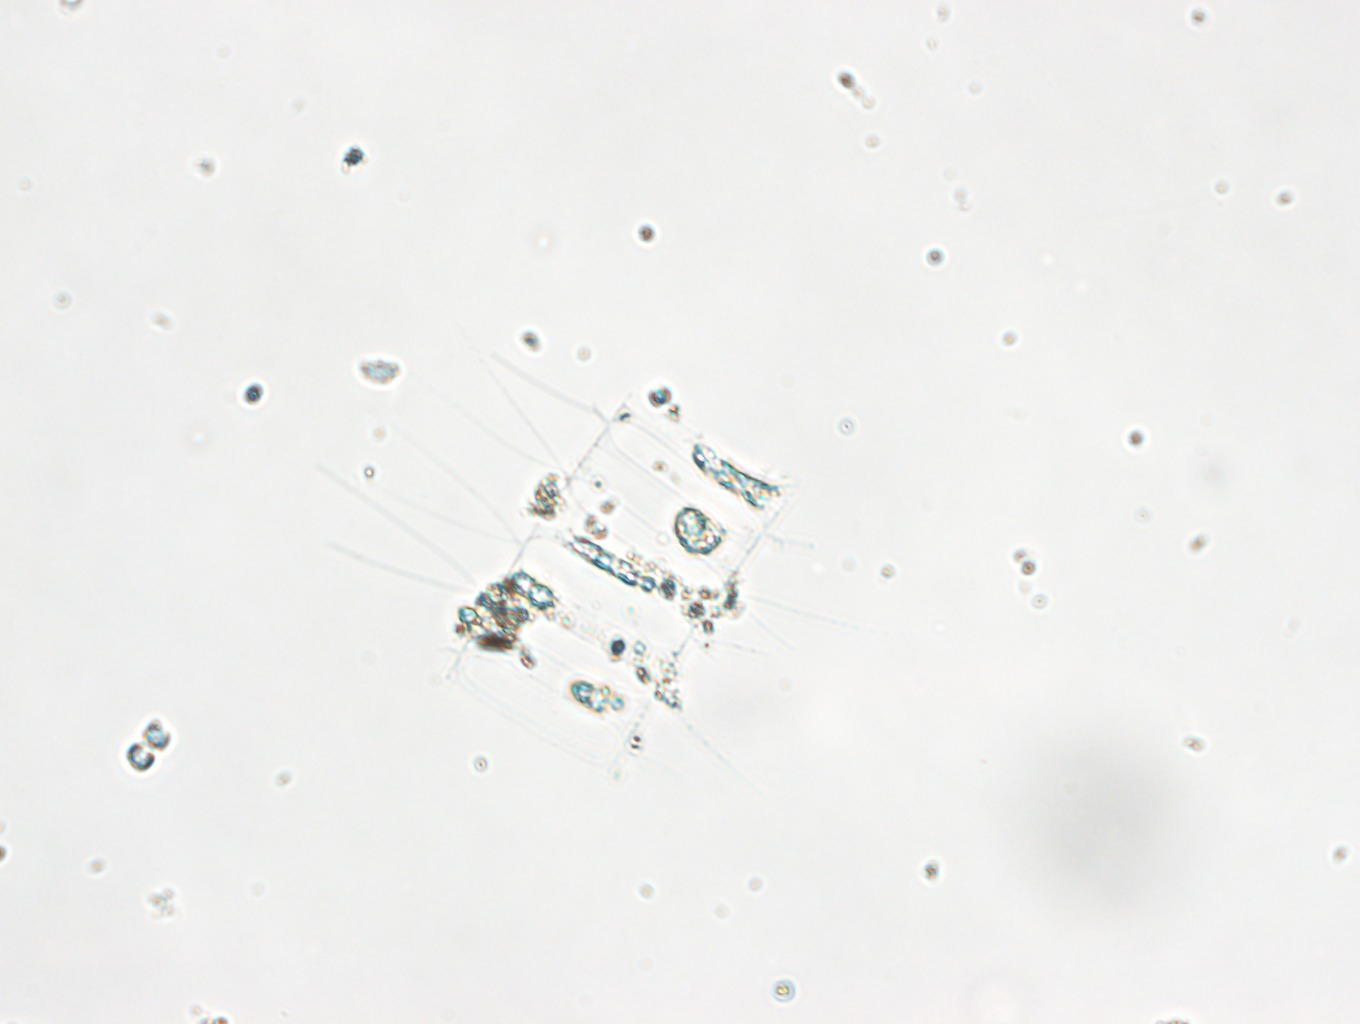chaetoceros: (312, 341, 839, 779)
